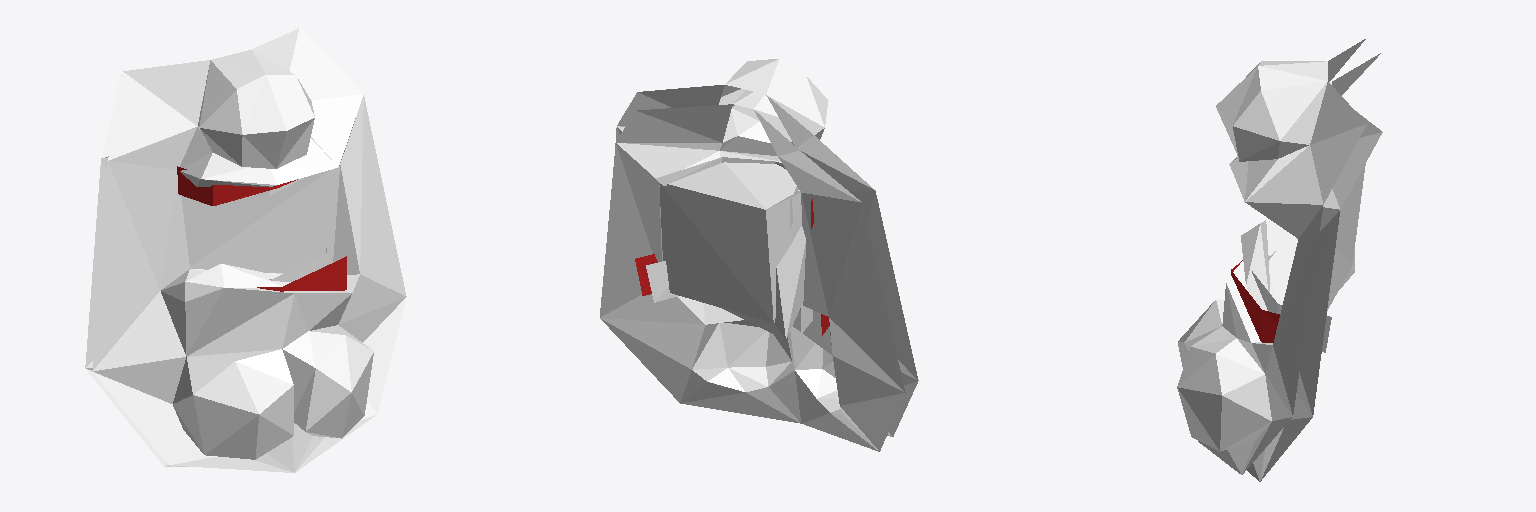
The picture shows the model from 3 angles: view 1: azimuth 30°, elevation 25°; view 2: azimuth 150°, elevation 25°; view 3: azimuth 270°, elevation 25°; orthographic projection.
Visible parts, largest first — view 1: Mesh_0003.001_Mesh_0003Mesh.001, Mesh_0001.001_Mesh_0001Mesh.001, Mesh_0002_Mesh_0002Mesh, Mesh_0004_Mesh_0004Mesh; view 2: Mesh_0002_Mesh_0002Mesh, Mesh_0003.001_Mesh_0003Mesh.001, Mesh_0004_Mesh_0004Mesh, Mesh_0001.001_Mesh_0001Mesh.001; view 3: Mesh_0003.001_Mesh_0003Mesh.001, Mesh_0002_Mesh_0002Mesh, Mesh_0001.001_Mesh_0001Mesh.001, Mesh_0004_Mesh_0004Mesh.
Part boxes in pixels (left/top/right/bottom): Mesh_0003.001_Mesh_0003Mesh.001: left=92, top=28, right=406, bottom=472; Mesh_0001.001_Mesh_0001Mesh.001: left=177, top=166, right=346, bottom=291; Mesh_0002_Mesh_0002Mesh: left=85, top=75, right=283, bottom=466; Mesh_0004_Mesh_0004Mesh: left=249, top=177, right=326, bottom=281; Mesh_0002_Mesh_0002Mesh: left=600, top=90, right=905, bottom=451; Mesh_0003.001_Mesh_0003Mesh.001: left=615, top=59, right=918, bottom=436; Mesh_0004_Mesh_0004Mesh: left=646, top=157, right=812, bottom=333; Mesh_0001.001_Mesh_0001Mesh.001: left=635, top=199, right=829, bottom=335; Mesh_0003.001_Mesh_0003Mesh.001: left=1177, top=39, right=1366, bottom=474; Mesh_0002_Mesh_0002Mesh: left=1247, top=53, right=1382, bottom=481; Mesh_0001.001_Mesh_0001Mesh.001: left=1231, top=260, right=1279, bottom=342; Mesh_0004_Mesh_0004Mesh: left=1252, top=251, right=1331, bottom=352.
Size of the model in its own units: 0.3588 by 0.4138 by 0.2036.
4 materials, 2 textured.